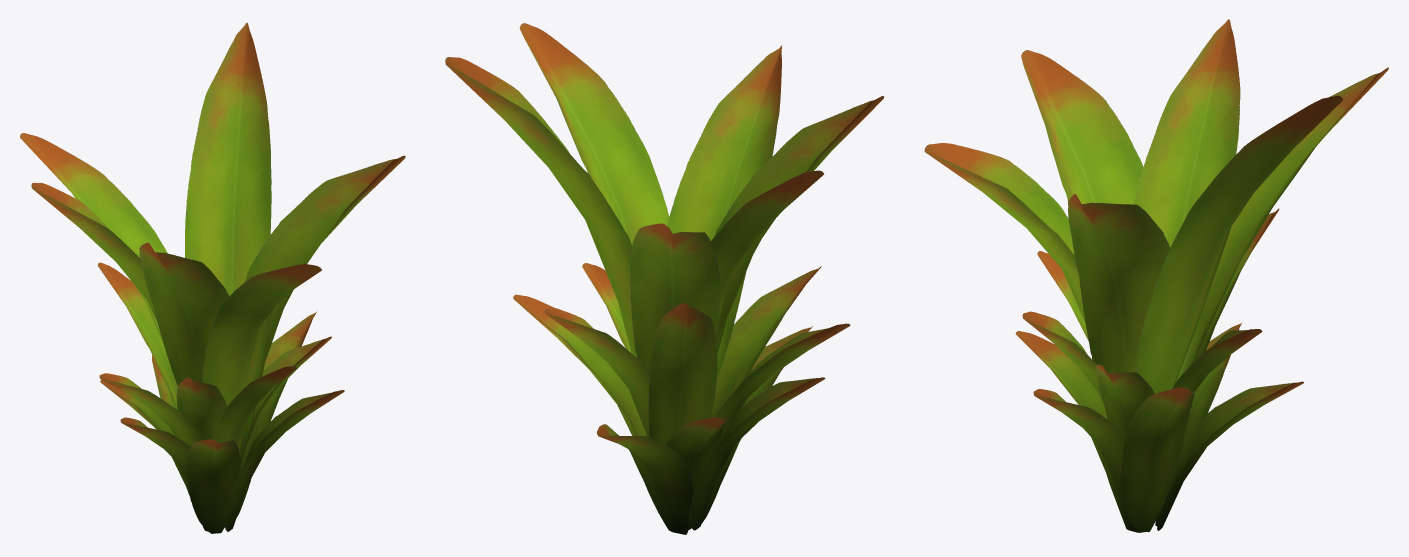
The model's file is Plant_1_Big.gltf.
3 views of the same model, side by side, from view 1: azimuth 30°, elevation 25°; view 2: azimuth 150°, elevation 25°; view 3: azimuth 270°, elevation 25° (orthographic). The views are drawn at different scales.
Visible parts, largest first — view 1: Plant_1_Big; view 2: Plant_1_Big; view 3: Plant_1_Big.
Boxes of the visible parts, bbox=[...] form: Plant_1_Big: bbox=[20, 22, 405, 533]; Plant_1_Big: bbox=[445, 23, 883, 534]; Plant_1_Big: bbox=[924, 19, 1388, 532].
Size of the model in its own units: 1.81 by 2.35 by 1.95.
Materials: 1 (1 with a texture image).
